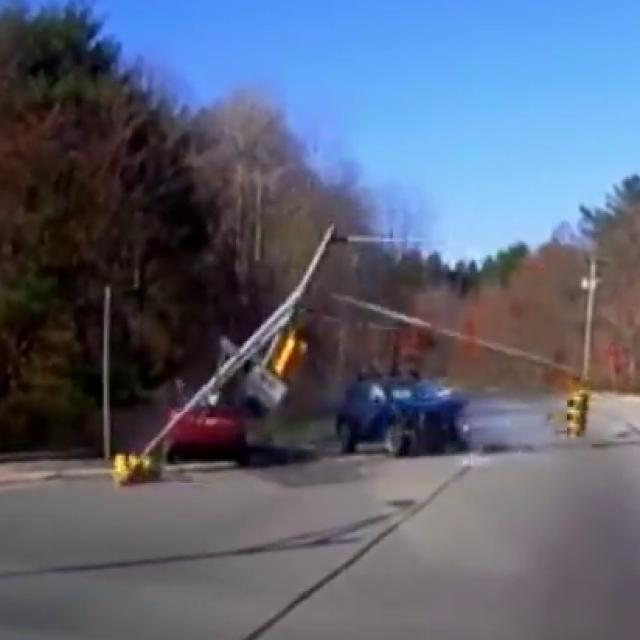accident: (324, 371, 481, 466), (159, 378, 266, 474)
